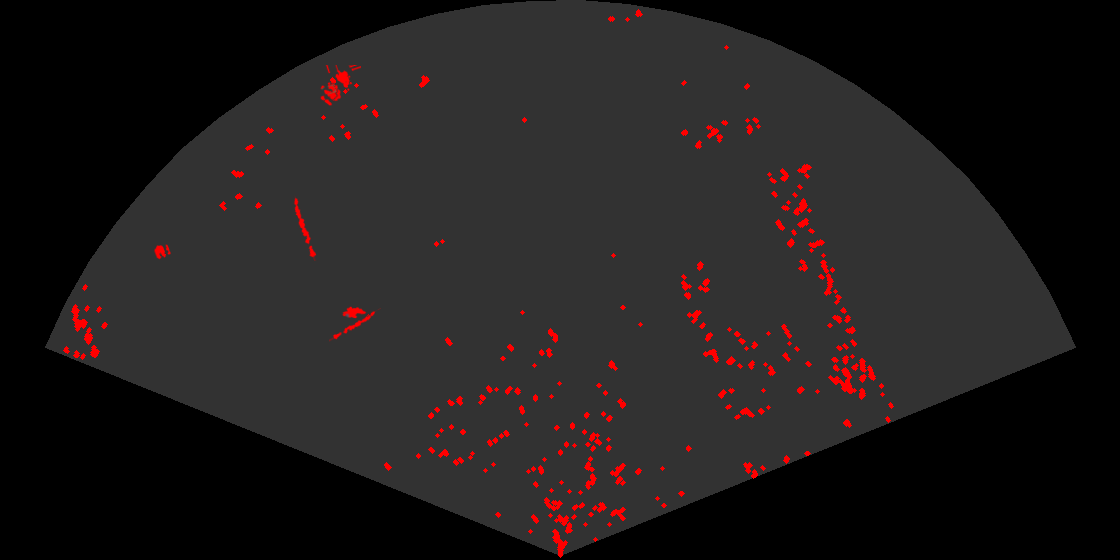AUV: (341, 305, 368, 320)
ball: (319, 83, 343, 107), (152, 243, 172, 261)
cage: (319, 65, 361, 101)
chain: (329, 308, 381, 343), (292, 195, 318, 261)
